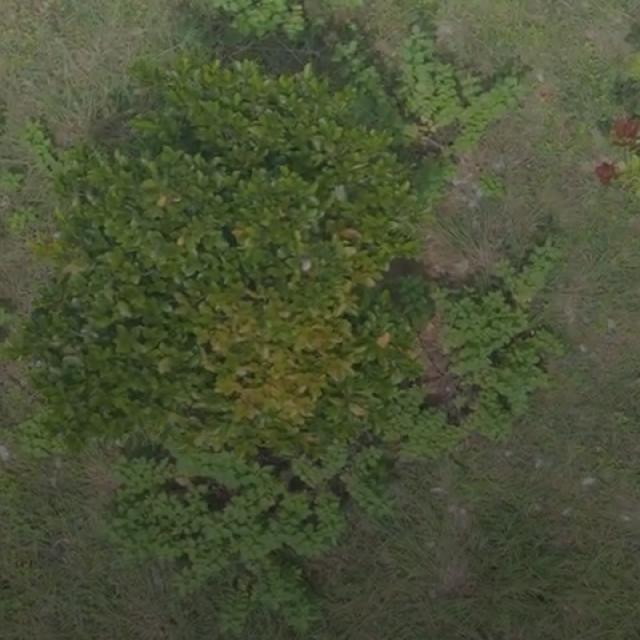notMangoTree: (15, 67, 562, 624)
